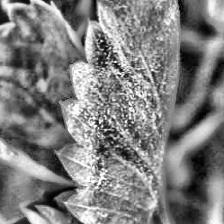Powdery Mildew Leaf: (54, 0, 182, 224), (0, 0, 85, 186), (0, 186, 99, 224)
